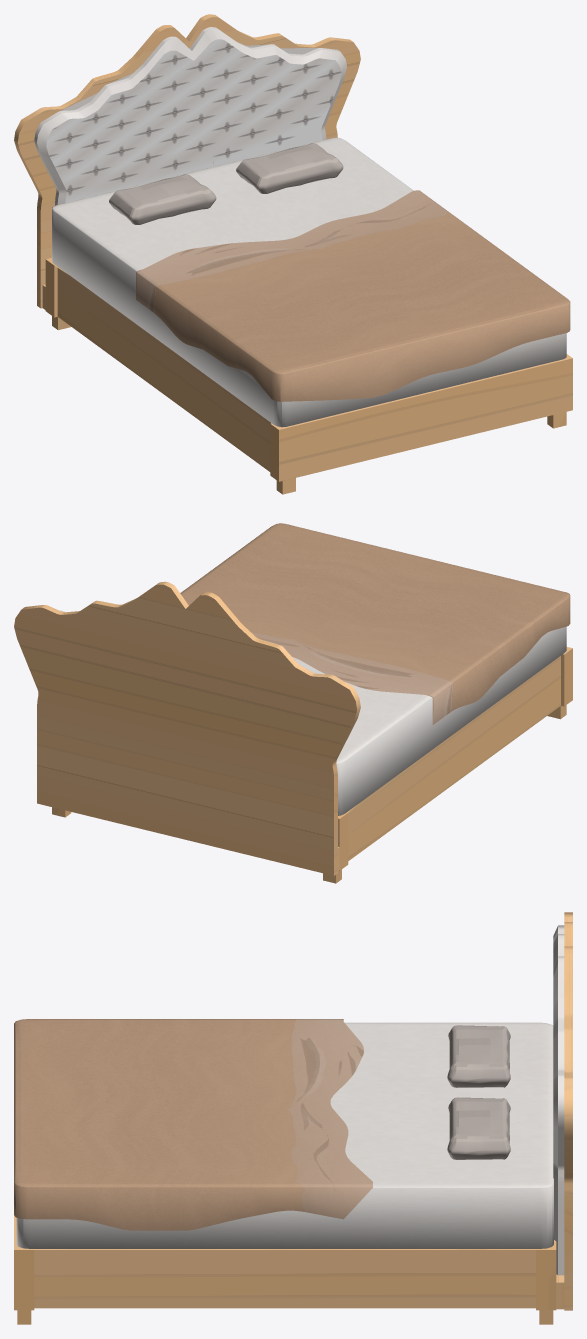
The model's file is classic bed.fbx.
The picture shows the model from 3 angles, top to bottom: view 1: azimuth 30°, elevation 25°; view 2: azimuth 150°, elevation 25°; view 3: azimuth 270°, elevation 25°; orthographic projection. The views are drawn at different scales.
Visible parts, largest first — view 1: classic bed; view 2: classic bed; view 3: classic bed.
Boxes of the visible parts, bbox=[...] form: classic bed: bbox=[14, 14, 572, 494]; classic bed: bbox=[14, 523, 572, 883]; classic bed: bbox=[14, 912, 572, 1324].
Size of the model in its own units: 214 by 158 by 260.
4 materials, 4 textured.
